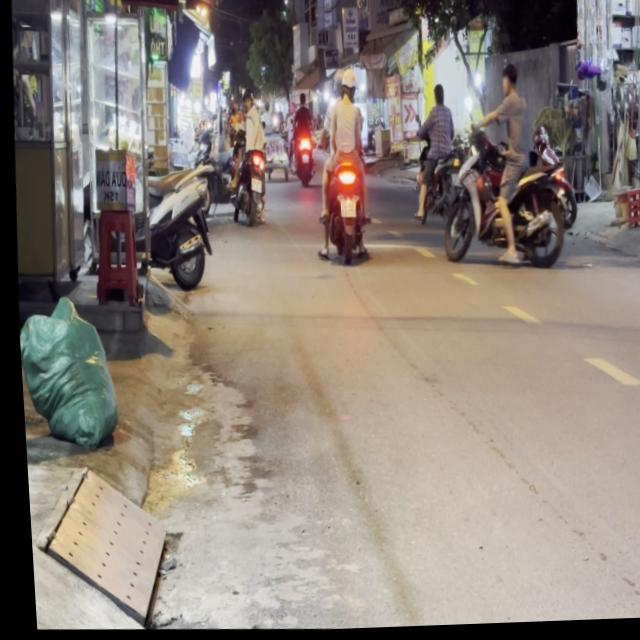helmet: (337, 67, 358, 101)
licenseplate: (428, 58, 576, 279), (307, 65, 377, 269)
motorcyclist: (499, 63, 520, 100), (432, 83, 446, 107)
nohelmet: (336, 201, 354, 221)
